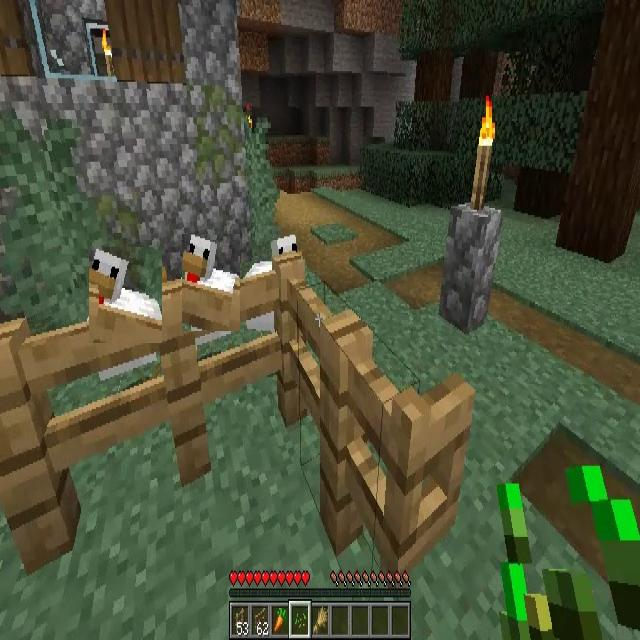duck: (89, 247, 162, 343), (182, 234, 240, 331), (242, 234, 304, 324)
